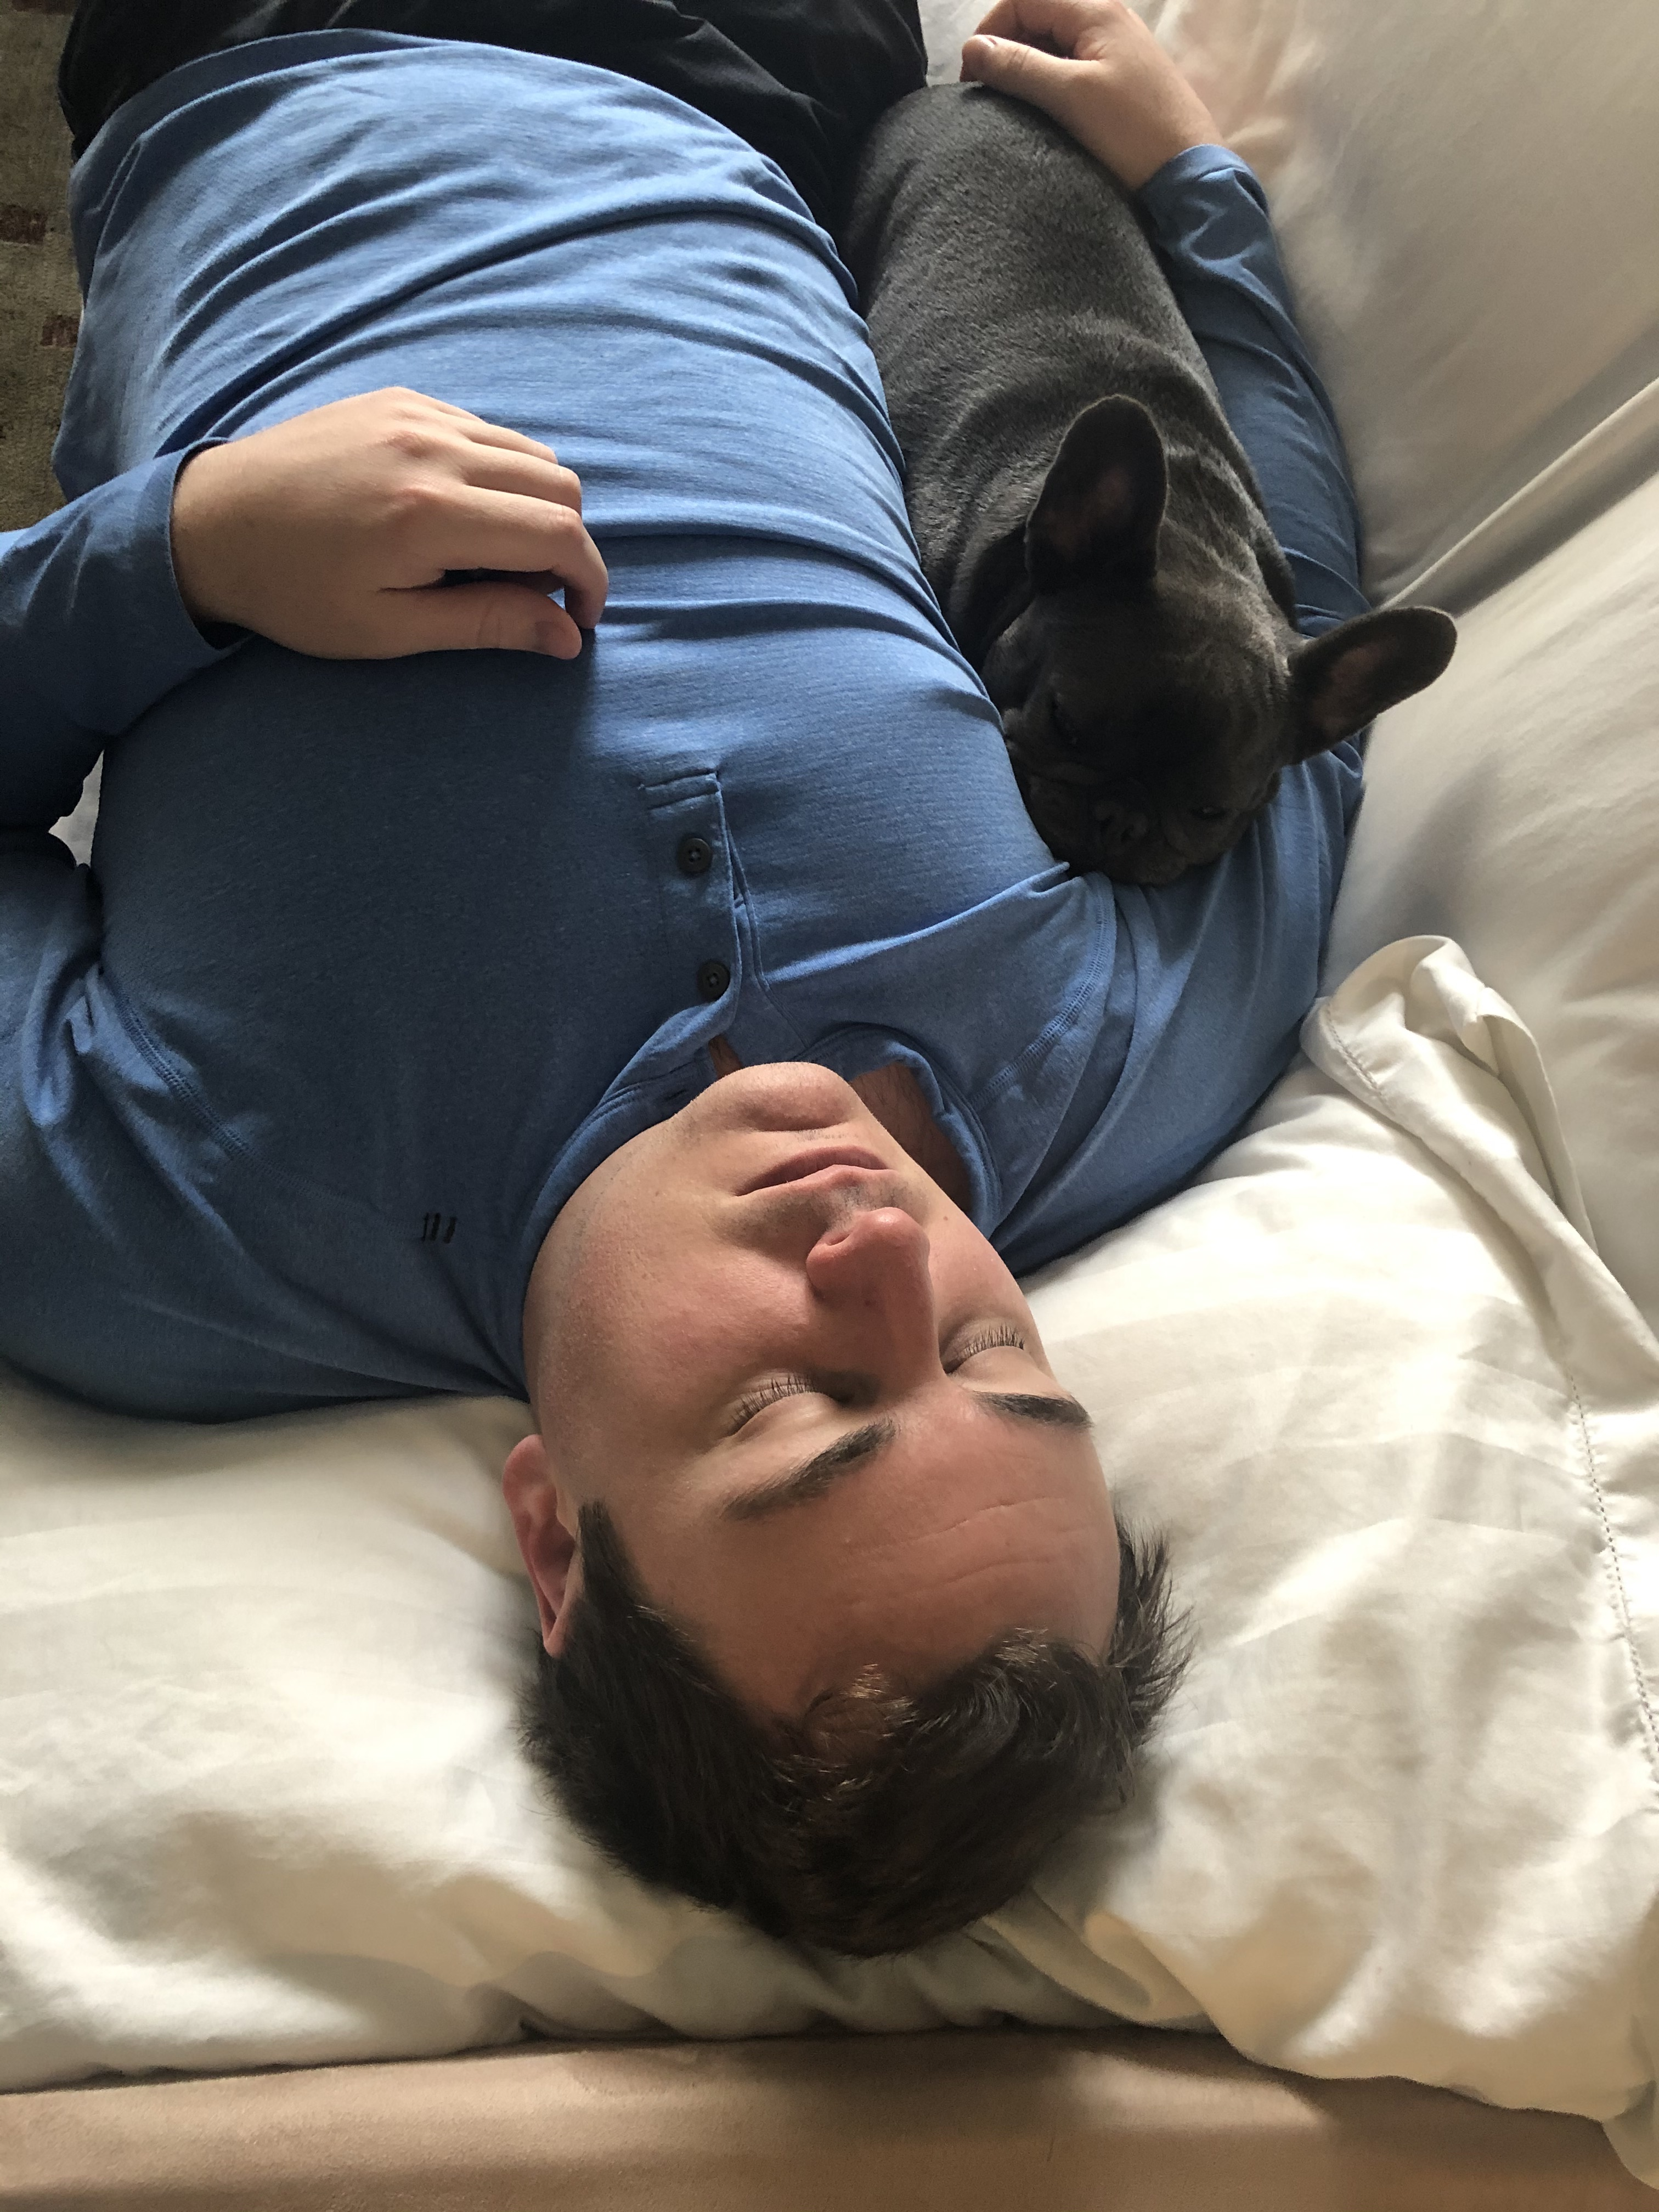lucy: (842, 73, 1464, 897)
